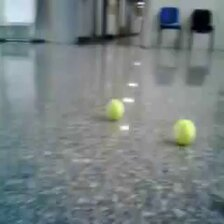tennis: (172, 118, 195, 146), (105, 99, 123, 119)
